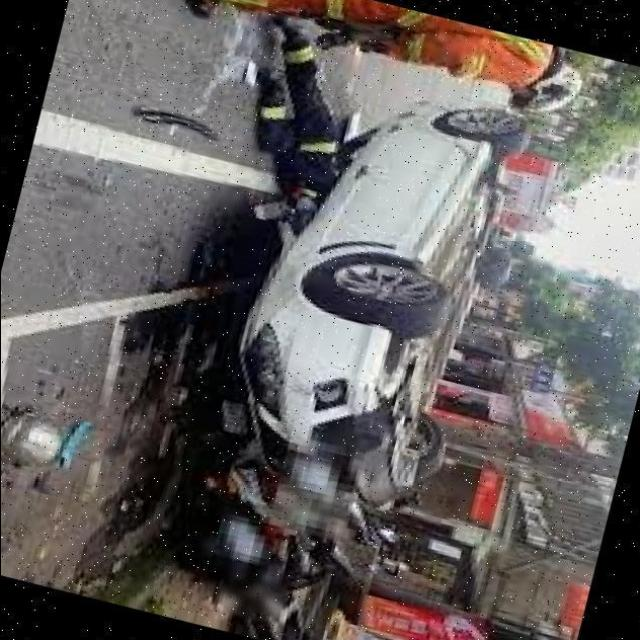accident: (151, 29, 597, 567)
